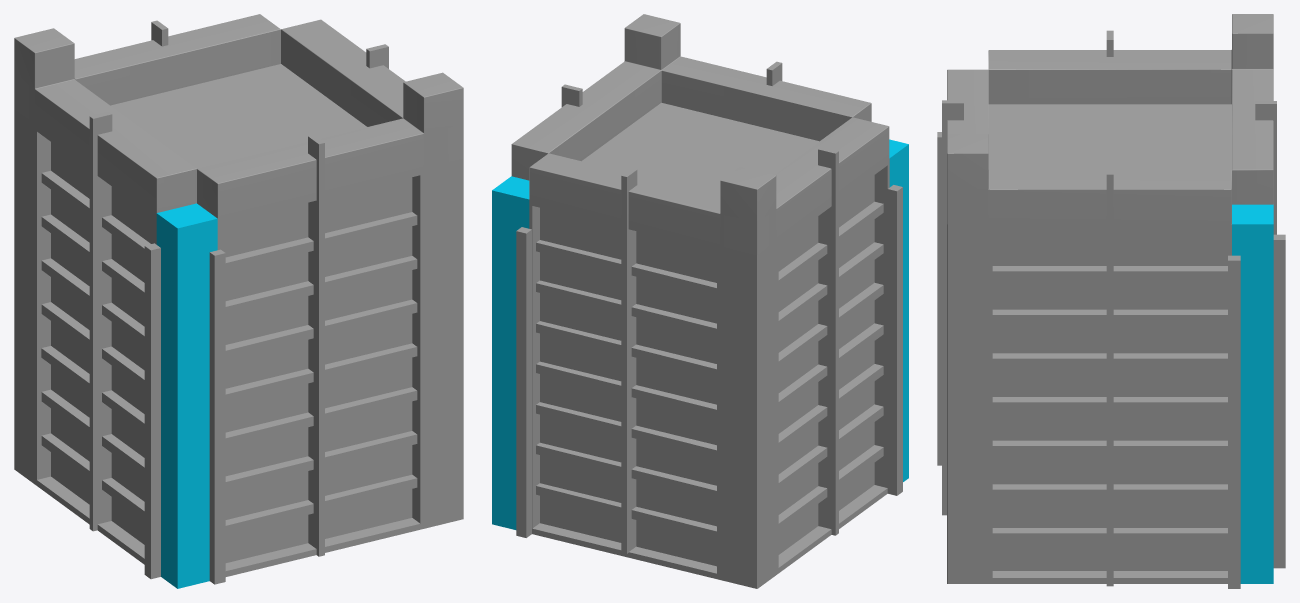
The model's file is BuildingPiece_1_top.fbx.
3 renders of one model, left to right at view 1: azimuth 30°, elevation 25°; view 2: azimuth 150°, elevation 25°; view 3: azimuth 270°, elevation 25°, orthographic. The views are drawn at different scales.
Parts seen in each view (by area): view 1: BuildingPiece1_top; view 2: BuildingPiece1_top; view 3: BuildingPiece1_top.
Part boxes in pixels (bbox=[...]): BuildingPiece1_top: bbox=[14, 14, 463, 588]; BuildingPiece1_top: bbox=[492, 14, 908, 588]; BuildingPiece1_top: bbox=[937, 14, 1285, 588].
Size of the model in its own units: 33.88 by 45.55 by 33.39.
